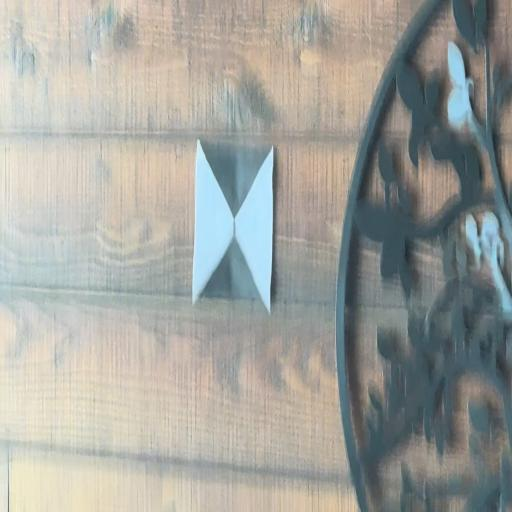target: (196, 143, 274, 304)
